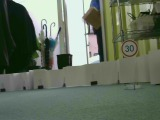speed_30: (119, 39, 139, 58)
